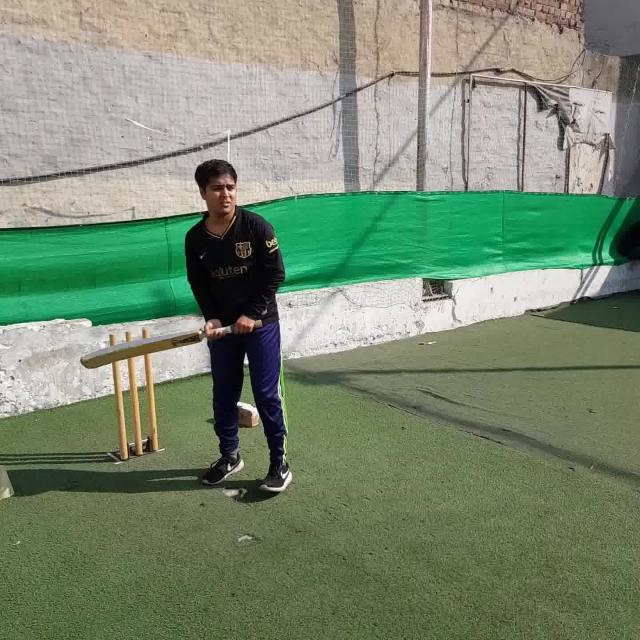bat: (79, 320, 264, 368)
